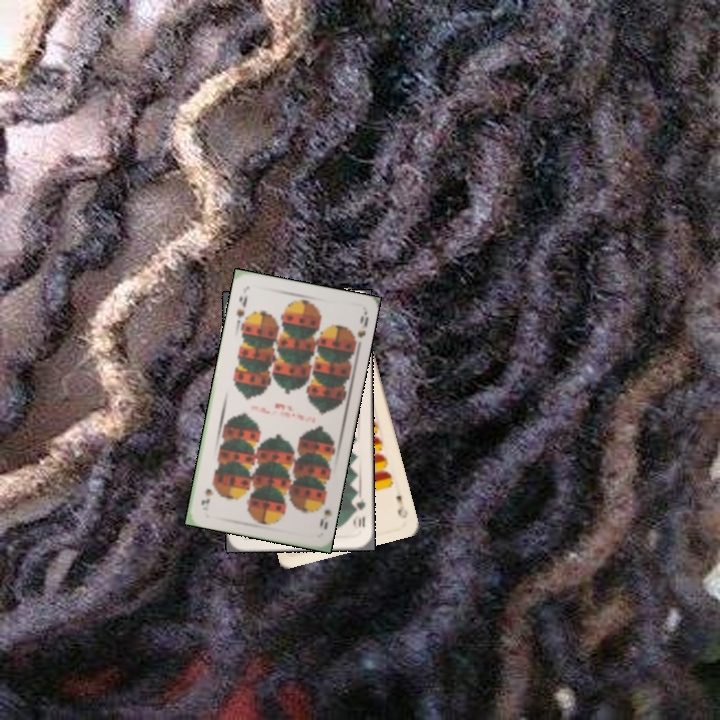E9: (392, 491, 410, 521)
G10: (350, 493, 368, 530)
S9: (314, 494, 334, 532), (232, 291, 250, 321)
